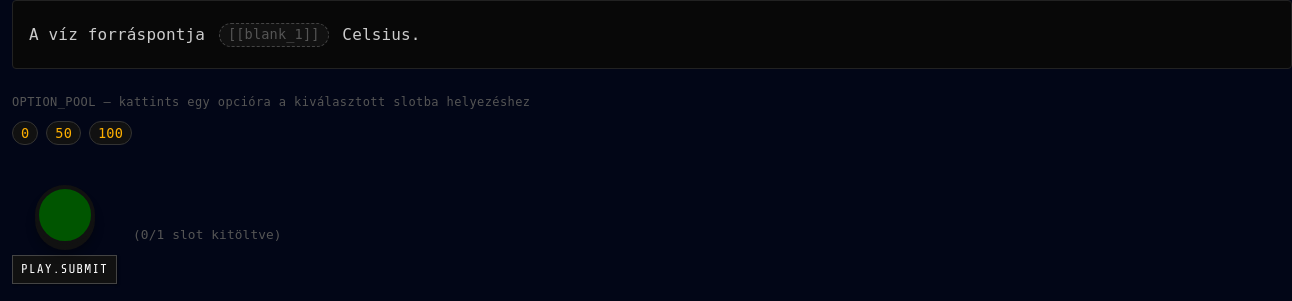
Test case: FillInBlankView › passed: false submit → 'Próbáld újra' gomb jelenik meg
The width and height of the screenshot is (1292, 301).
Expected: the text "100" is shown, [98,125,123,141]
Click the button "100": (110, 133) [89,121,132,145]
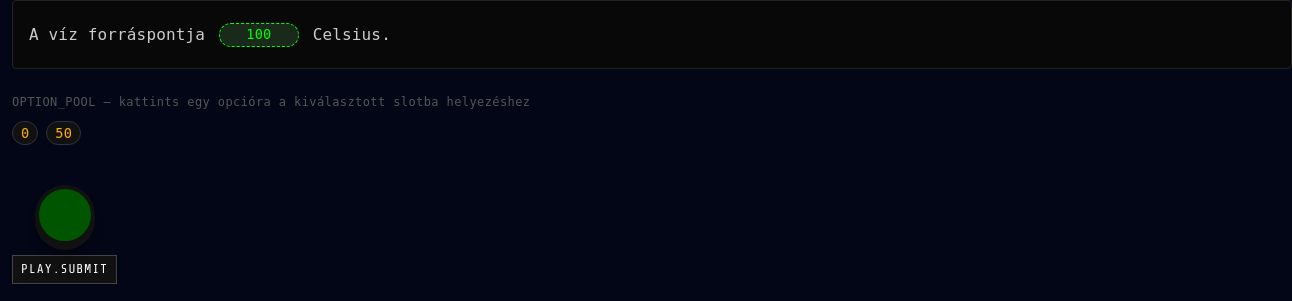
Click the 4th button: (64, 215) [34,185,94,245]
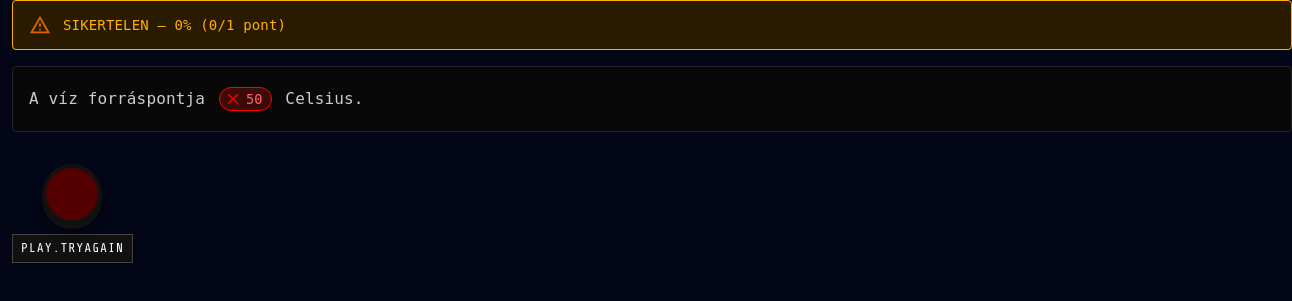
Expected: the text "play.tryAgain" is shown, [12,234,133,263]
